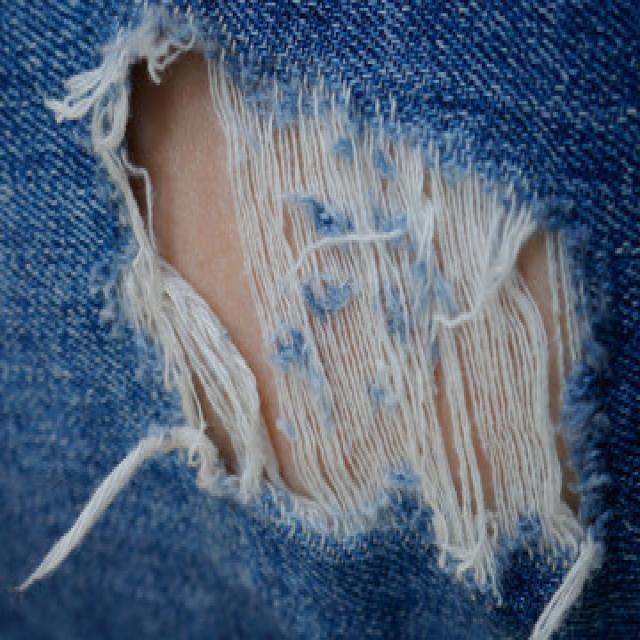Hole: (48, 14, 584, 585)
